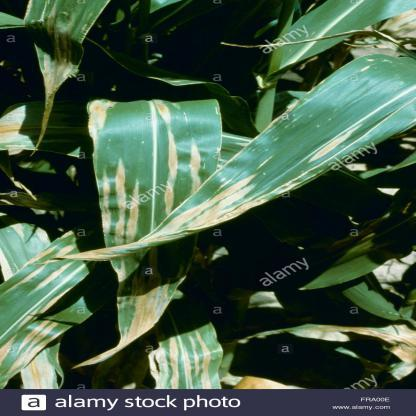Corn leaf blight: (36, 48, 416, 266), (82, 93, 204, 363), (22, 1, 119, 156)
